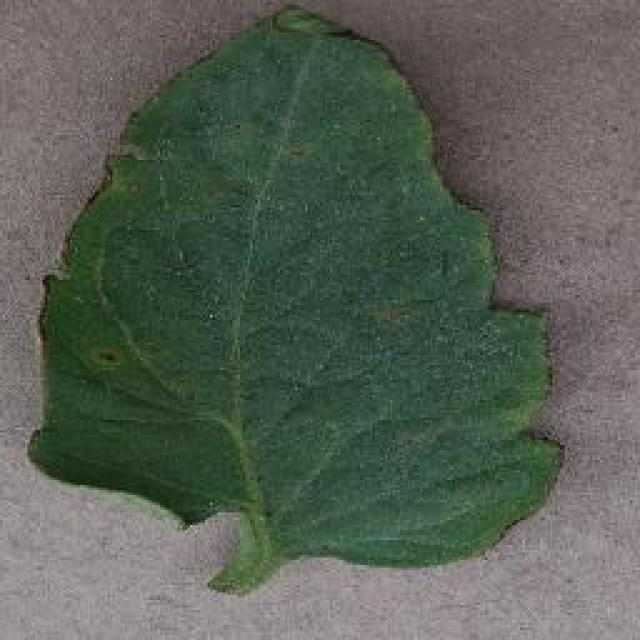Tomato___Bacterial_spot: (21, 1, 568, 603)
